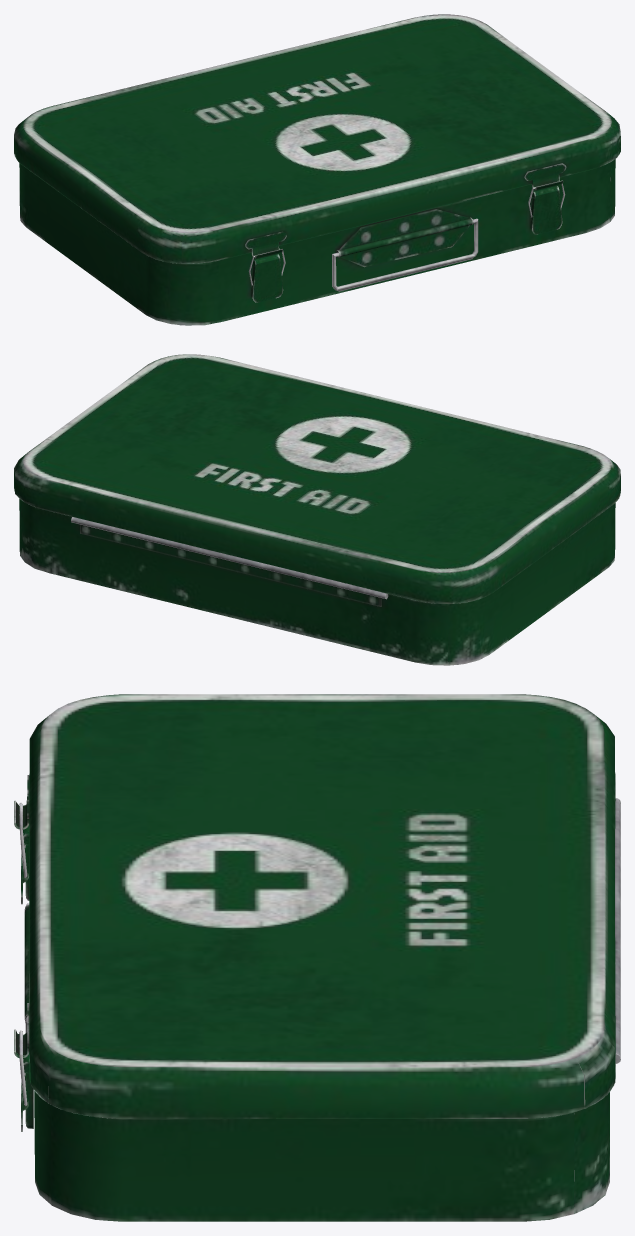
The model's file is medical_box.glb.
The picture shows the model from 3 angles, top to bottom: view 1: azimuth 30°, elevation 25°; view 2: azimuth 150°, elevation 25°; view 3: azimuth 270°, elevation 25°; orthographic projection. The views are drawn at different scales.
Parts seen in each view (by area): view 1: medical_box_latch; view 2: medical_box_latch; view 3: medical_box_latch.
Boxes of the visible parts, x1,y1,x2,y2 form: medical_box_latch: (14, 14, 620, 325); medical_box_latch: (14, 354, 620, 665); medical_box_latch: (14, 694, 620, 1221).
Bounding box in the file's own units: 0.5255 × 0.0975 × 0.3502.
1 material, 1 textured.
